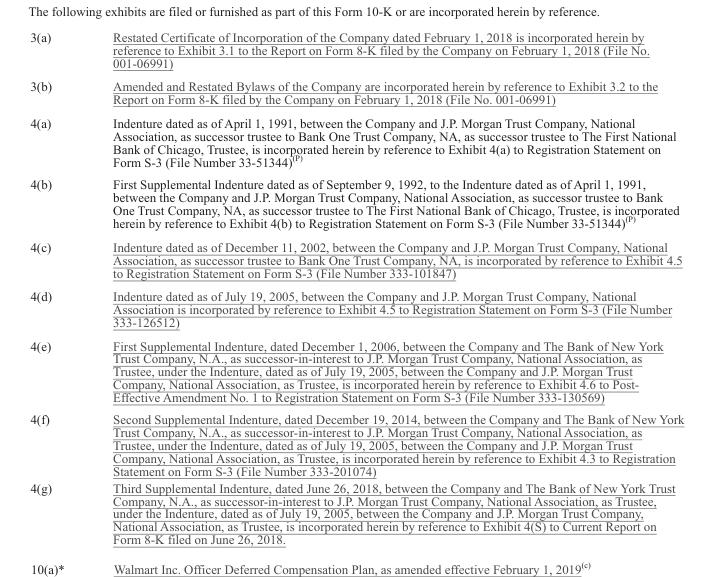table: (29, 29, 683, 546)
table column: (81, 29, 683, 546), (29, 29, 81, 546)
table row: (29, 333, 683, 407), (29, 407, 683, 478), (29, 478, 683, 546), (29, 110, 683, 172), (29, 172, 683, 234), (29, 234, 683, 284), (29, 284, 683, 333), (29, 29, 683, 73), (29, 73, 683, 110)
